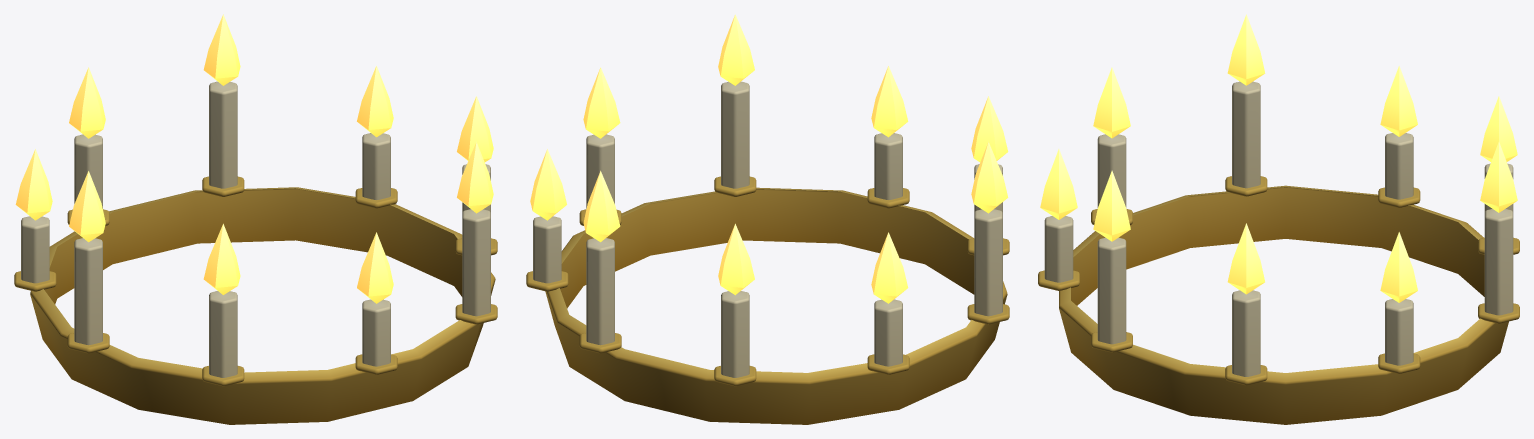
Rendered from lg_candlecrown.glb.
3 renders of one model, left to right at view 1: azimuth 30°, elevation 25°; view 2: azimuth 150°, elevation 25°; view 3: azimuth 270°, elevation 25°, orthographic.
Parts seen in each view (by area): view 1: lg_candlecrown, lg_candlecrown_glow; view 2: lg_candlecrown, lg_candlecrown_glow; view 3: lg_candlecrown, lg_candlecrown_glow.
Part boxes in pixels (x1=…): lg_candlecrown: x1=14, y1=81, x2=497, y2=424; lg_candlecrown_glow: x1=15, y1=14, x2=493, y2=303; lg_candlecrown: x1=526, y1=81, x2=1009, y2=424; lg_candlecrown_glow: x1=530, y1=14, x2=1008, y2=303; lg_candlecrown: x1=1038, y1=81, x2=1519, y2=424; lg_candlecrown_glow: x1=1040, y1=14, x2=1517, y2=302.
Size of the model in its own units: 2.24 by 1.12 by 2.19.
